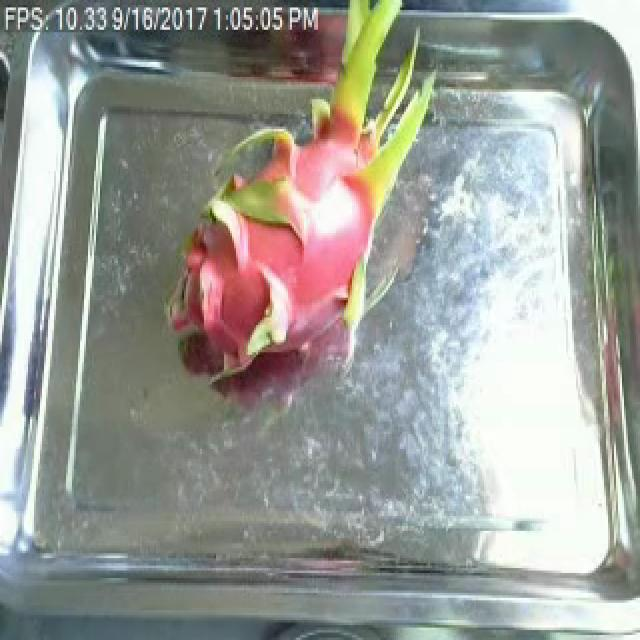fruit: (148, 10, 452, 394)
